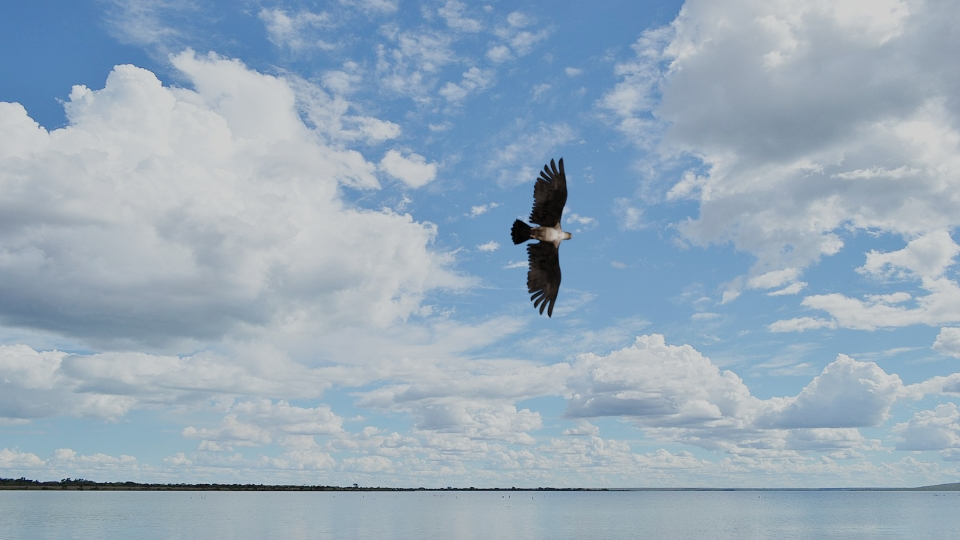bird: (510, 157, 570, 316)
